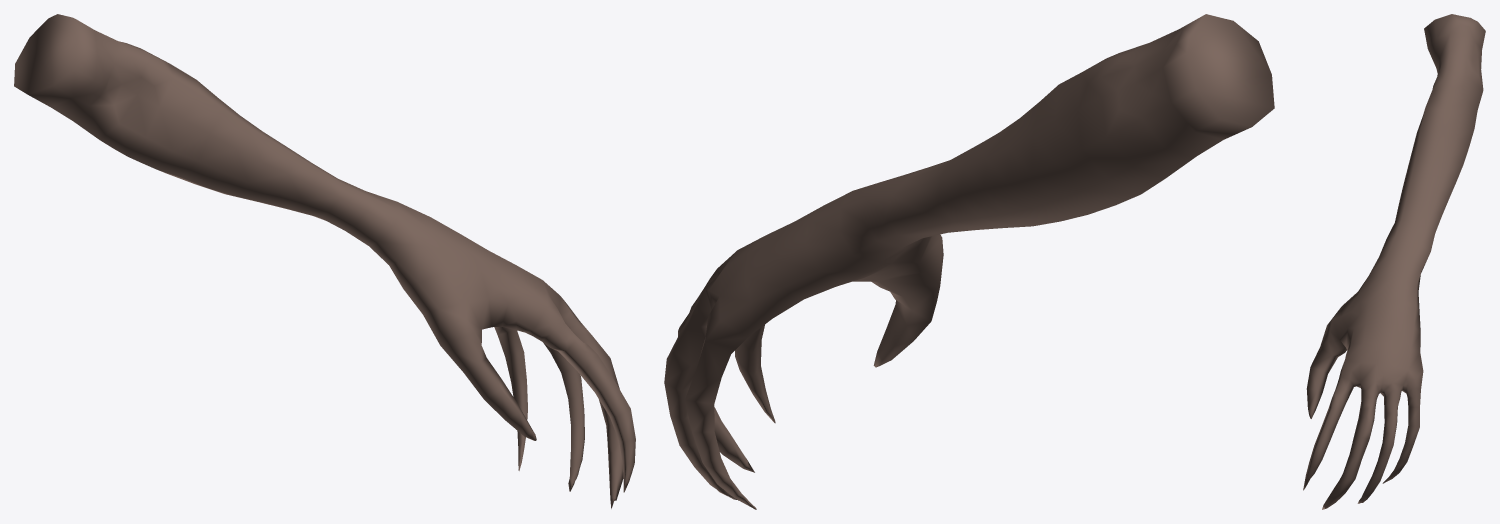
Rendered from arm.fbx.
3 renders of one model, left to right at view 1: azimuth 30°, elevation 25°; view 2: azimuth 150°, elevation 25°; view 3: azimuth 270°, elevation 25°, orthographic. The views are drawn at different scales.
Parts seen in each view (by area): view 1: arm; view 2: arm; view 3: arm.
Part boxes in pixels (x1,y1,x2,y2): arm: (14,14,635,508); arm: (664,14,1274,509); arm: (1303,14,1485,509).
Size of the model in its own units: 2.26 by 2.16 by 1.01.
